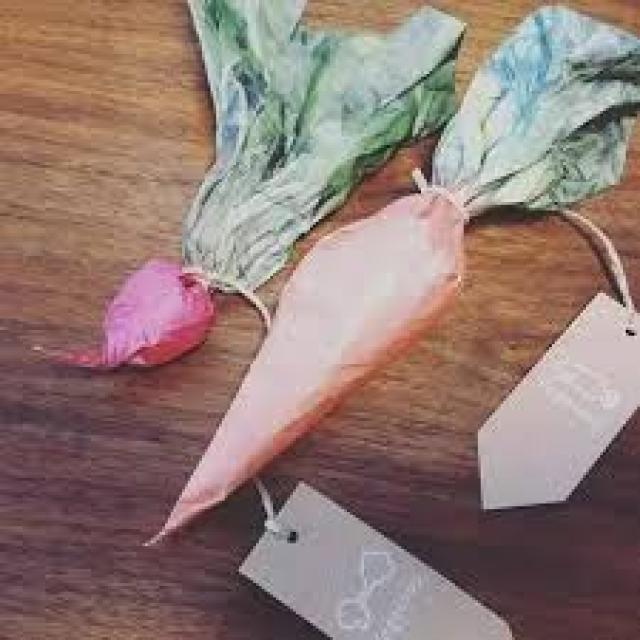food_waste: (100, 0, 637, 538), (481, 293, 637, 506)
